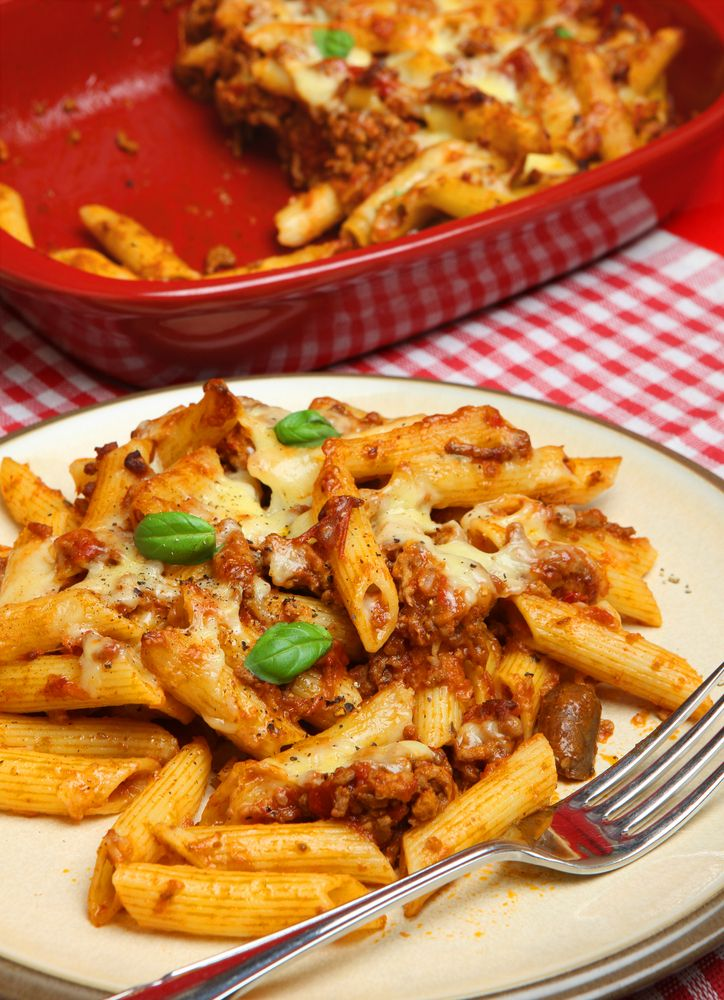plain spaghetti: (52, 460, 518, 807)
